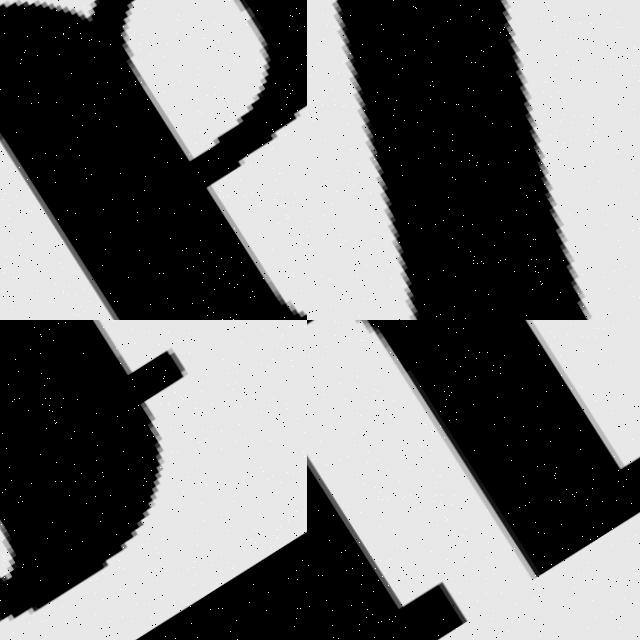A: (0, 0, 307, 320)
F: (0, 320, 268, 640)
L: (307, 0, 640, 320)
U: (307, 320, 640, 640)
